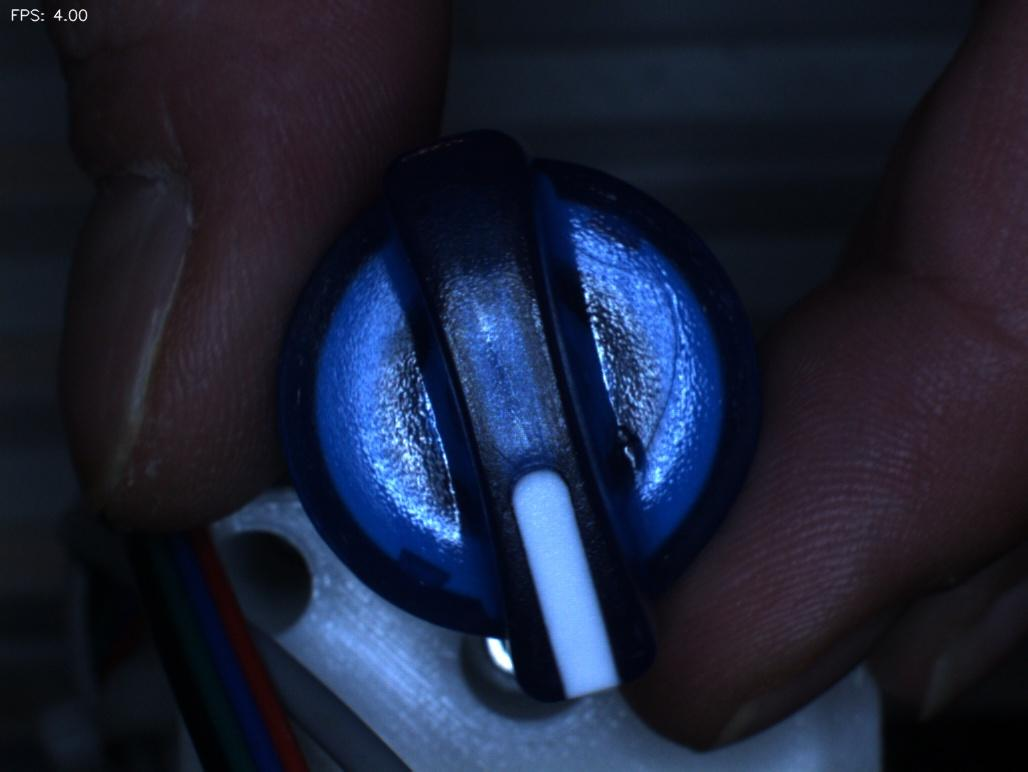Choc: (575, 396, 667, 500)
